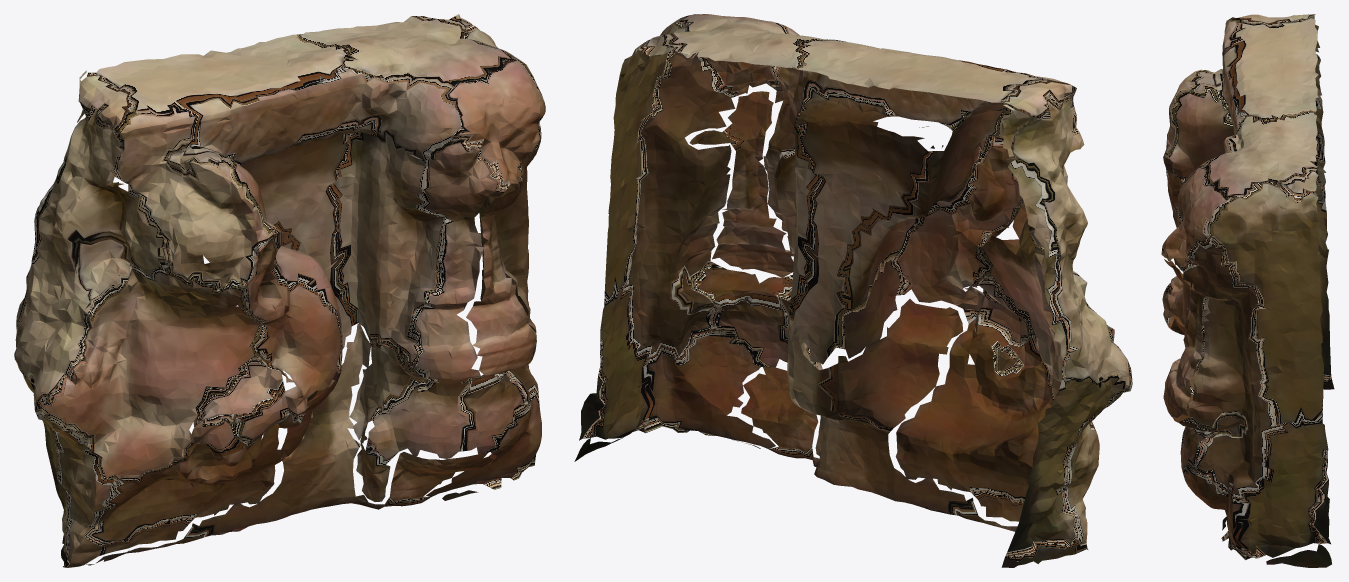
The model's file is sf-gupta-relief-fragment.lod1.glb.
The picture shows the model from 3 angles, left to right: view 1: azimuth 30°, elevation 25°; view 2: azimuth 150°, elevation 25°; view 3: azimuth 270°, elevation 25°; orthographic projection. The views are drawn at different scales.
Parts seen in each view (by area): view 1: material0, material1; view 2: material0, material1; view 3: material0, material1.
Boxes of the visible parts, left/top/right/bottom form: material0: left=14, top=14, right=545, bottom=567; material1: left=77, top=70, right=536, bottom=565; material0: left=579, top=14, right=1132, bottom=567; material1: left=574, top=91, right=1075, bottom=531; material0: left=1161, top=14, right=1334, bottom=559; material1: left=1163, top=14, right=1331, bottom=567.
Bounding box in the file's own units: 0.2917 × 0.2497 × 0.1023.
2 materials, 2 textured.
